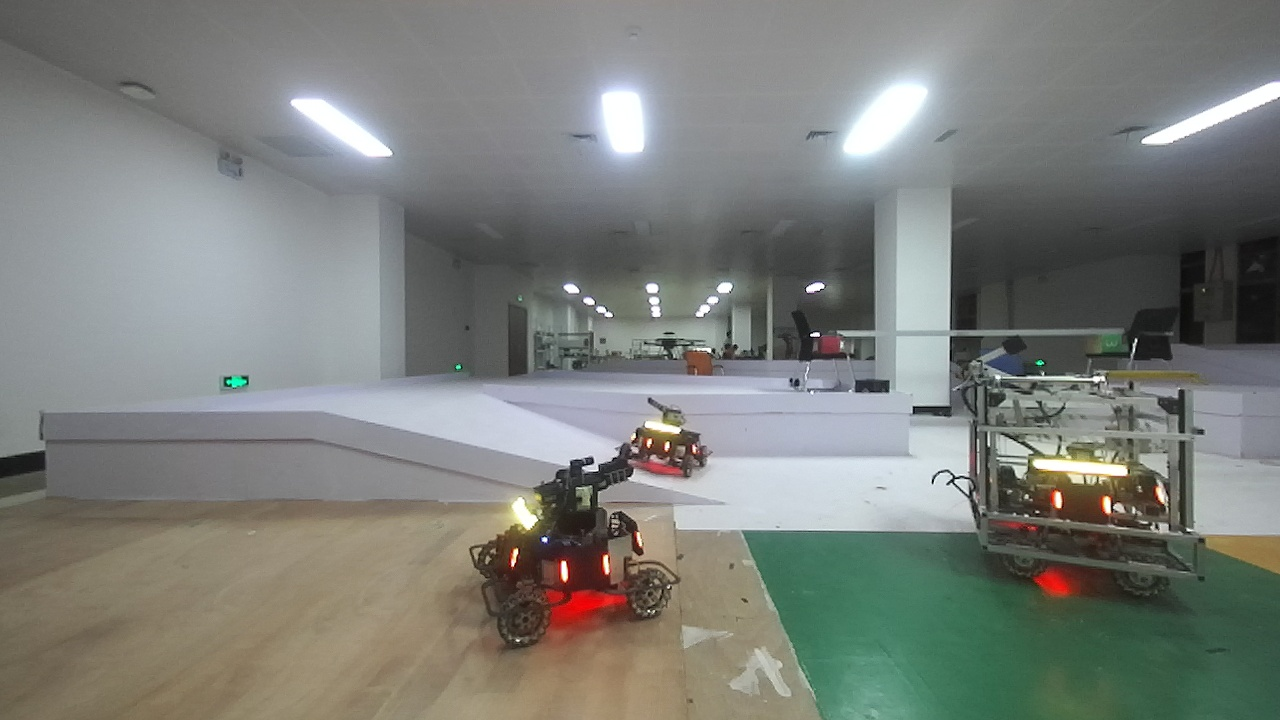car: (944, 348, 1218, 604), (465, 459, 680, 651), (617, 380, 711, 487)
